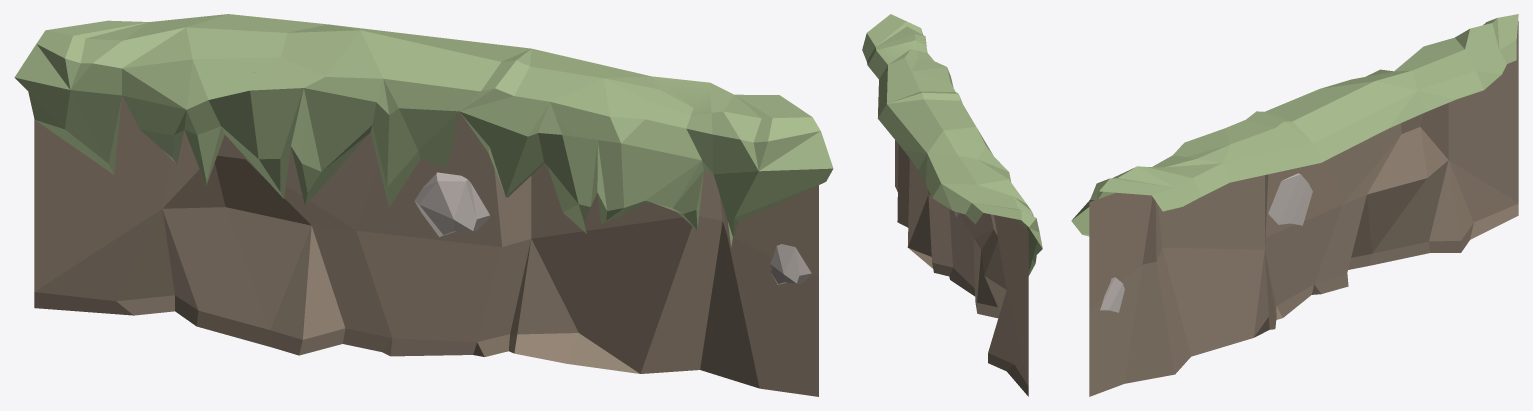
Rendered from ER_Terrain_1x1_GrassDiagonal_Halfsize_001_A.fbx.
3 views of the same model, side by side, from view 1: azimuth 30°, elevation 25°; view 2: azimuth 150°, elevation 25°; view 3: azimuth 270°, elevation 25° (orthographic). The views are drawn at different scales.
Parts seen in each view (by area): view 1: ER_Terrain_1x1_GrassDiagonal_Halfsize_001_A; view 2: ER_Terrain_1x1_GrassDiagonal_Halfsize_001_A; view 3: ER_Terrain_1x1_GrassDiagonal_Halfsize_001_A.
Boxes of the visible parts, <box> form: ER_Terrain_1x1_GrassDiagonal_Halfsize_001_A: <box>14,14,833,396</box>; ER_Terrain_1x1_GrassDiagonal_Halfsize_001_A: <box>862,14,1042,396</box>; ER_Terrain_1x1_GrassDiagonal_Halfsize_001_A: <box>1071,14,1518,396</box>.
Size of the model in its own units: 1.05 by 0.5611 by 1.04.
